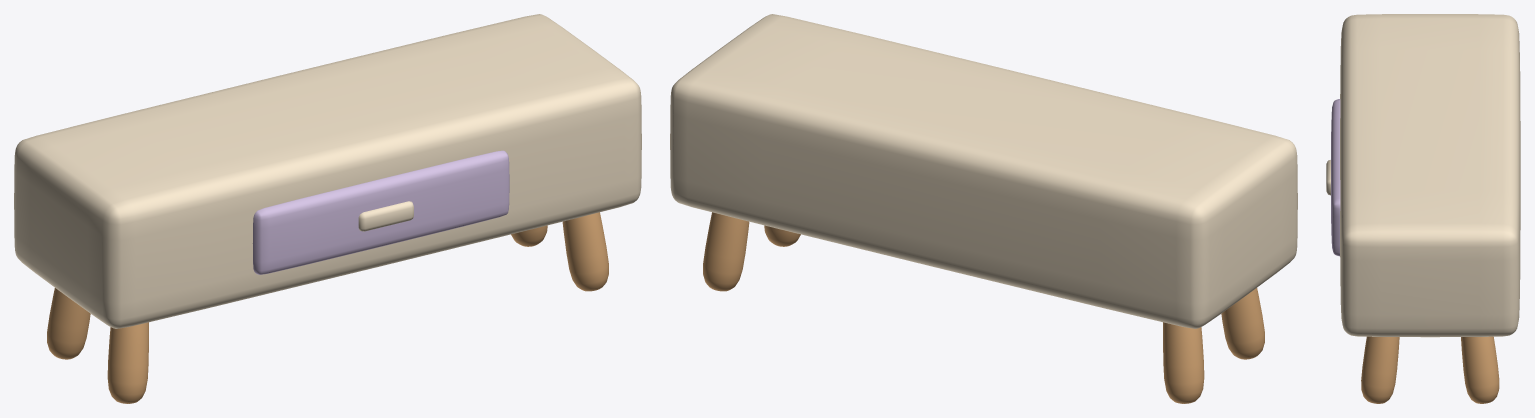
Rendered from tv_stand_c.glb.
The picture shows the model from 3 angles, left to right: view 1: azimuth 30°, elevation 25°; view 2: azimuth 150°, elevation 25°; view 3: azimuth 270°, elevation 25°; orthographic projection. The views are drawn at different scales.
Parts seen in each view (by area): view 1: body; view 2: body; view 3: body.
Boxes of the visible parts, x1=… form: body: x1=14, y1=14, x2=641, y2=403; body: x1=670, y1=14, x2=1297, y2=403; body: x1=1326, y1=14, x2=1520, y2=403.
Size of the model in its own units: 1.18 by 0.4516 by 0.43.
